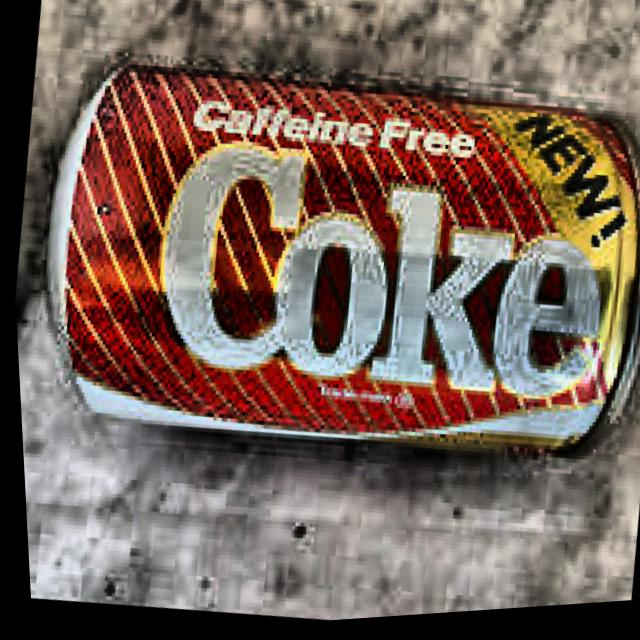Cans: (1, 0, 640, 543)
